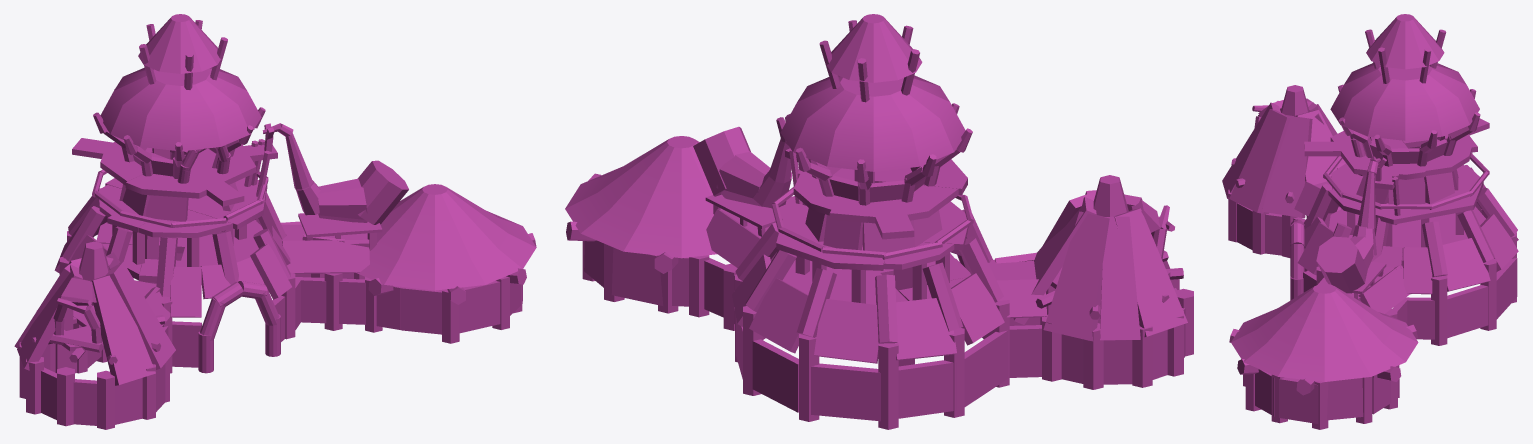
File: SM_Bld_HeadQuarters_01_Collision.fbx
3 views of the same model, side by side, from view 1: azimuth 30°, elevation 25°; view 2: azimuth 150°, elevation 25°; view 3: azimuth 270°, elevation 25° (orthographic). The views are drawn at different scales.
Visible parts, largest first — view 1: SM_Bld_HeadQuarters_01_Collision; view 2: SM_Bld_HeadQuarters_01_Collision; view 3: SM_Bld_HeadQuarters_01_Collision.
Boxes of the visible parts, x1,y1,x2,y2 form: SM_Bld_HeadQuarters_01_Collision: (14, 14, 536, 429); SM_Bld_HeadQuarters_01_Collision: (565, 14, 1193, 429); SM_Bld_HeadQuarters_01_Collision: (1222, 14, 1518, 429).
Size of the model in its own units: 3974 by 2279 by 2146.
